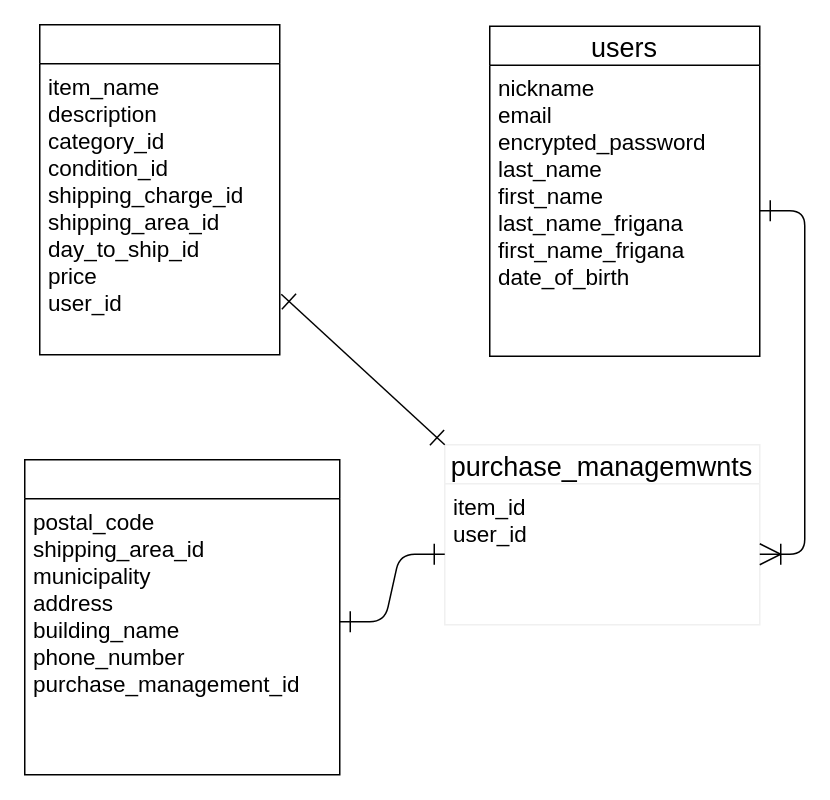
The diagram is 830 pixels wide and 800 high, and some of its shapes have lost their labels. Each missing label, with the box of its shape:
items: (38, 23, 280, 355)
shipping_addresses: (23, 458, 340, 775)
